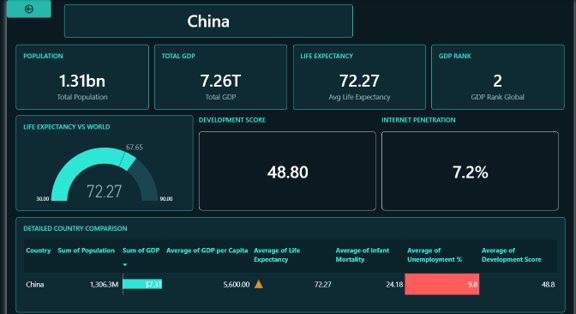

The dashboard page shown, as its layout file describes it:
{"tool":"powerbi","page":{"name":"Country Detail","canvas":[1280,720],"ordinal":4},"visuals":[{"type":"actionButton","box":[0,0,100,40],"z":0},{"type":"card","title":"POPULATION","fields":{"Values":["_Measures.Total Population"]},"box":[20,100,300,147.5],"z":1000},{"type":"card","title":"TOTAL GDP","fields":{"Values":["_Measures.Total GDP"]},"box":[333,100,300,147.5],"z":2000},{"type":"card","title":"LIFE EXPECTANCY","fields":{"Values":["_Measures.Avg Life Expectancy"]},"box":[646.2,100,300,147.5],"z":3000},{"type":"card","title":"GDP RANK","fields":{"Values":["_Measures.GDP Rank Global"]},"box":[959,100,300,147.5],"z":4000},{"type":"card","title":"POPULATION","fields":{"Values":["_Measures.Selected Country"]},"box":[130,10,652,75],"z":5000},{"type":"gauge","title":"LIFE EXPECTANCY VS WORLD","fields":{"TargetValue":["_Measures.Global Avg Life Expectancy"],"Y":["_Measures.Avg Life Expectancy"]},"box":[20,260,400,215],"z":6000},{"type":"cardVisual","title":"DEVELOPMENT SCORE","fields":{"Data":["Avg(Countries.Development Score)"]},"box":[440.6,261.5,400,215],"z":7000},{"type":"cardVisual","title":"INTERNET PENETRATION","fields":{"Data":["_Measures.Internet Penetration %"]},"box":[860.7,260.3,400,215],"z":8000},{"type":"tableEx","title":"DETAILED COUNTRY COMPARISON","fields":{"Values":["Countries.Country","Sum(Countries.Population)","Sum(Countries.GDP)","Countries.GDP per Capita","Countries.Life Expectancy","Avg(Countries.Infant Mortality)","Avg(Countries.Unemployment %)","Avg(Countries.Development Score)"]},"box":[20.6,493.9,1239.5,210.6],"z":9000}]}

Visuals, with their boxes on the page's 1280x720 design canvas (x1, y1, x2, y2). These are canvas units, not pixel positions in the 576x314 screenshot, which may show the page scaled, cropped or inside an application window:
actionButton: bbox(0, 0, 100, 40)
"POPULATION" card: bbox(20, 100, 320, 248)
"TOTAL GDP" card: bbox(333, 100, 633, 248)
"LIFE EXPECTANCY" card: bbox(646, 100, 946, 248)
"GDP RANK" card: bbox(959, 100, 1259, 248)
"POPULATION" card: bbox(130, 10, 782, 85)
"LIFE EXPECTANCY VS WORLD" gauge: bbox(20, 260, 420, 475)
"DEVELOPMENT SCORE" cardVisual: bbox(441, 262, 841, 476)
"INTERNET PENETRATION" cardVisual: bbox(861, 260, 1261, 475)
"DETAILED COUNTRY COMPARISON" tableEx: bbox(21, 494, 1260, 704)
